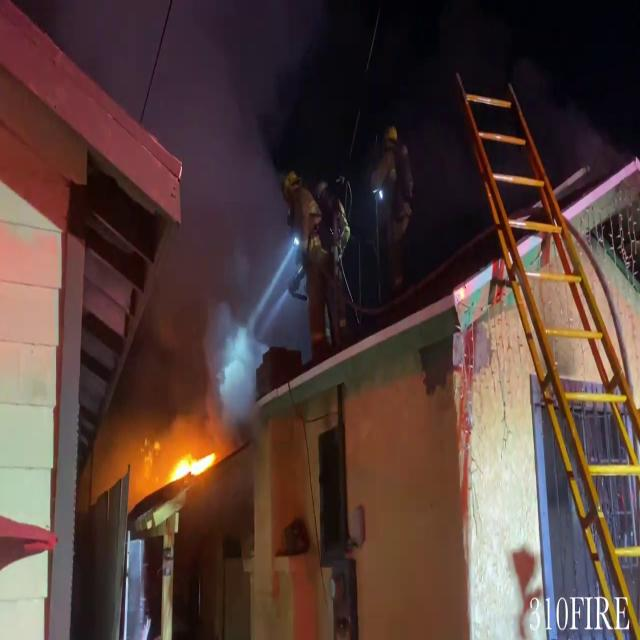Fire: (166, 436, 221, 496)
Smoke: (132, 0, 312, 361)
